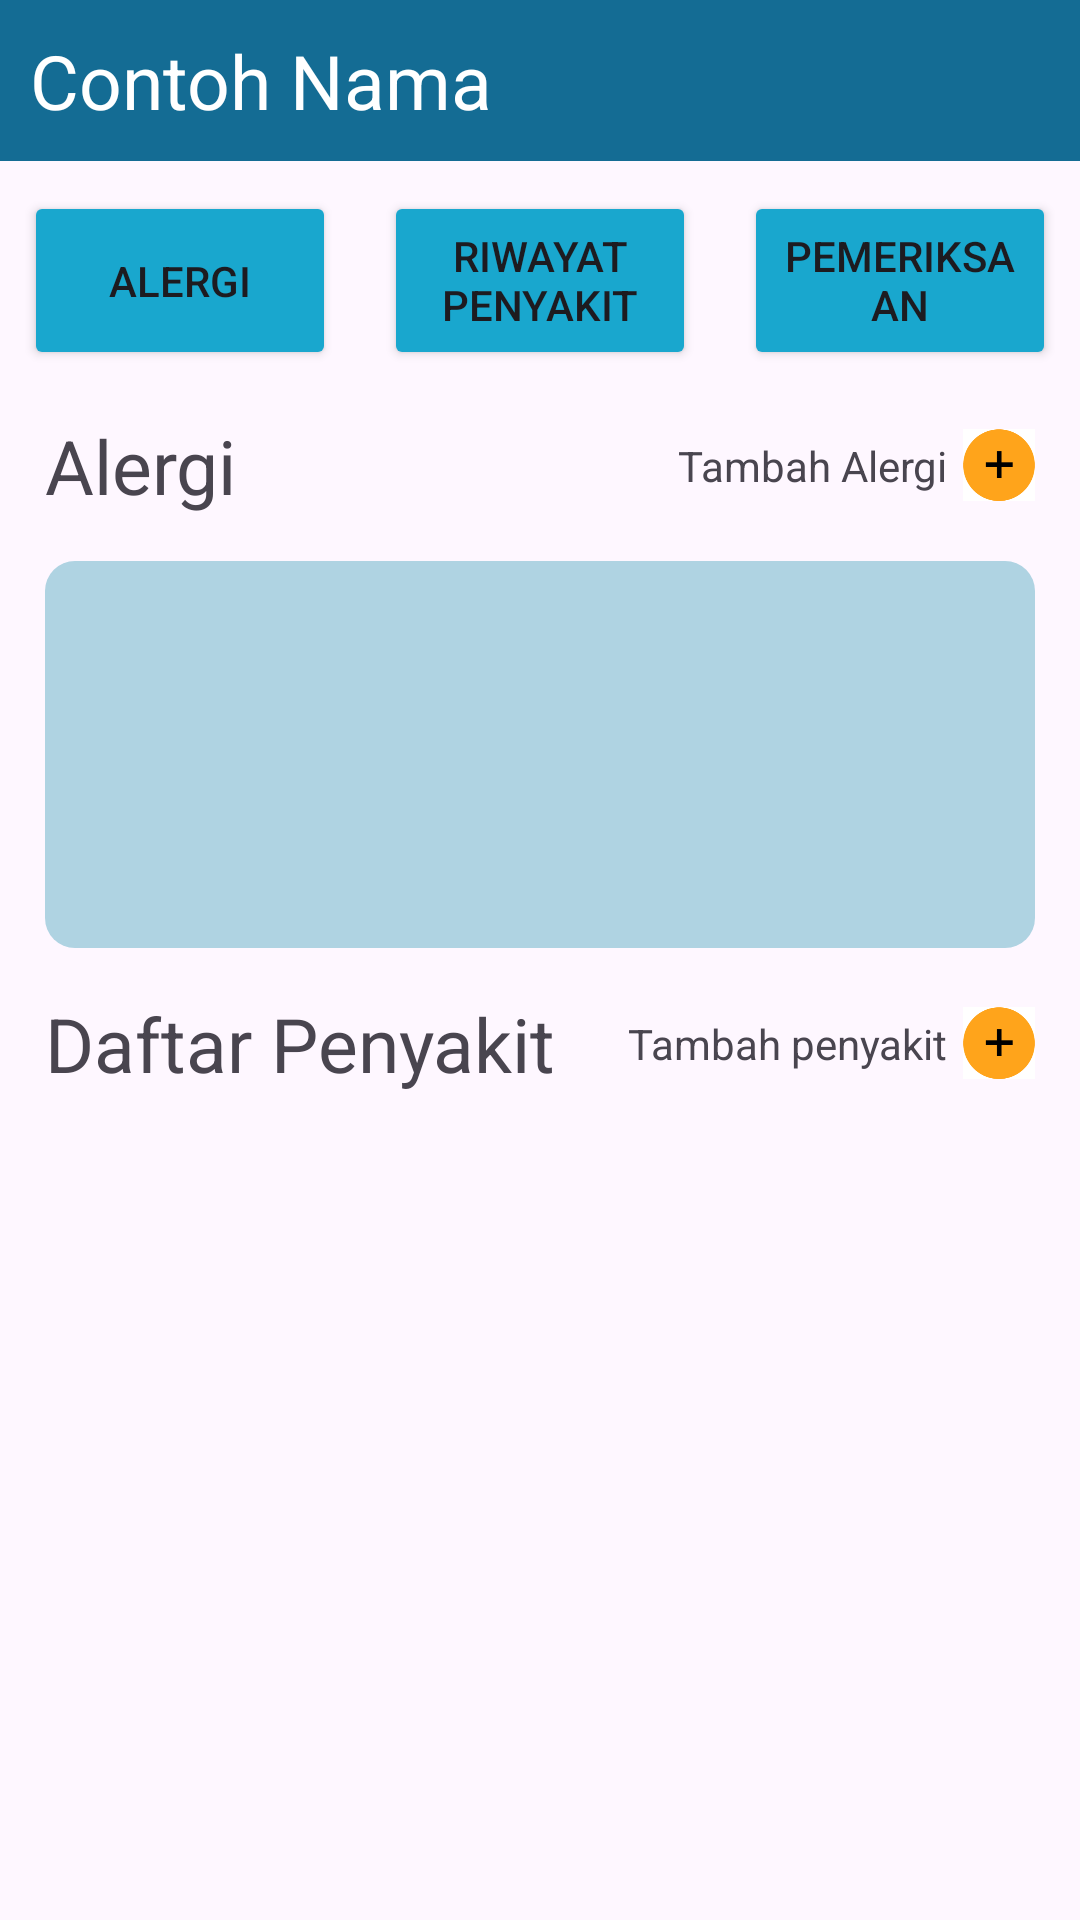

Icon bounding boxes for this 1080px x 1920px phone screenshot, format (x1, y1, x2, y2):
add: (963, 429, 1035, 501), (963, 1007, 1035, 1079)
